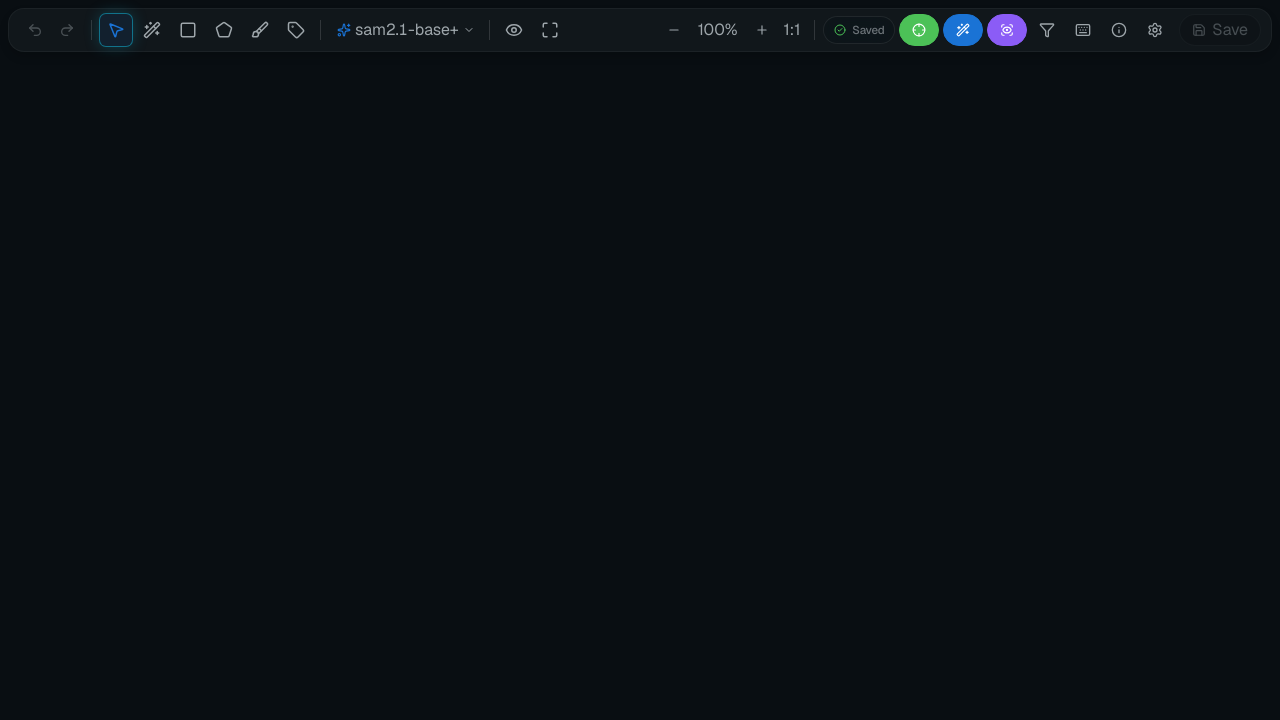
Scenario: v3.7.2 — pre-flight: no-class-mapping warning + disabled Predict › renders the warning banner when zero weight classes are mapped
Click the button with test id "yolo-predict-trigger" at (919, 30), box [899, 14, 939, 46]
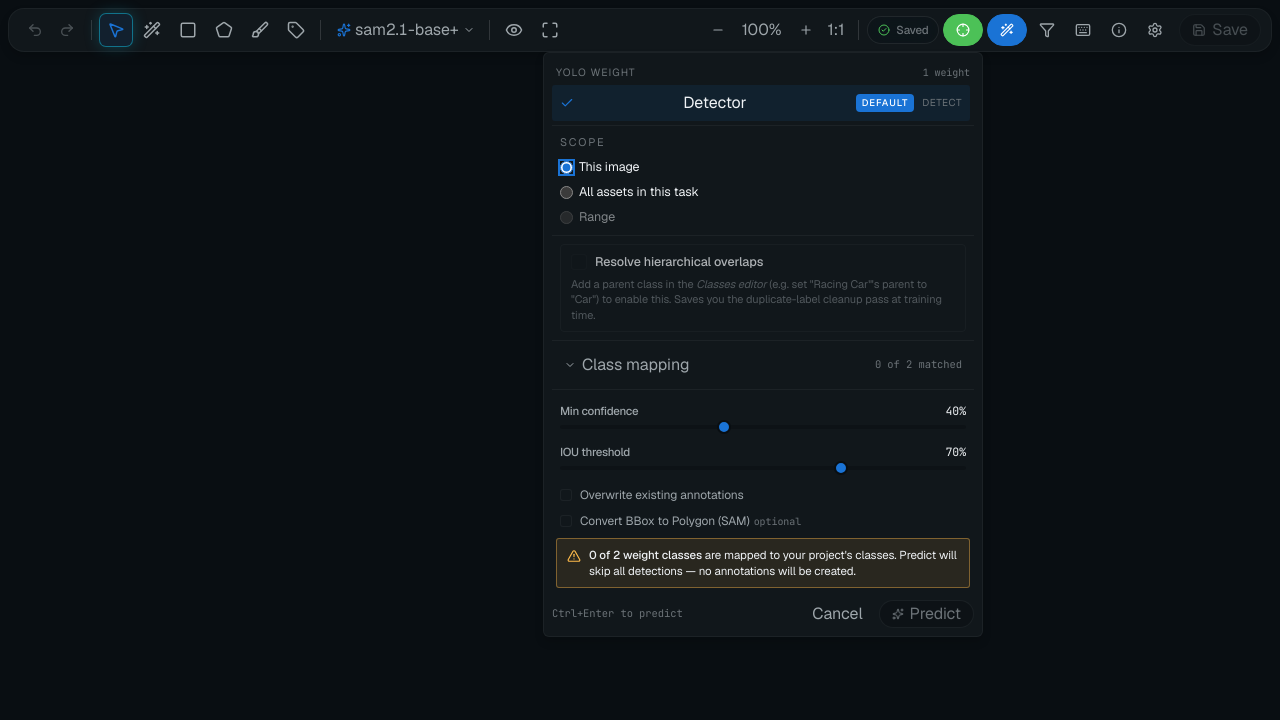
Result: the message with test id "yolo-no-mapping-warning" shows "0 of 2 weight classes" at [556, 538, 970, 588]
Result: the message with test id "yolo-no-mapping-warning" shows "skip all detections" at [589, 547, 957, 578]
